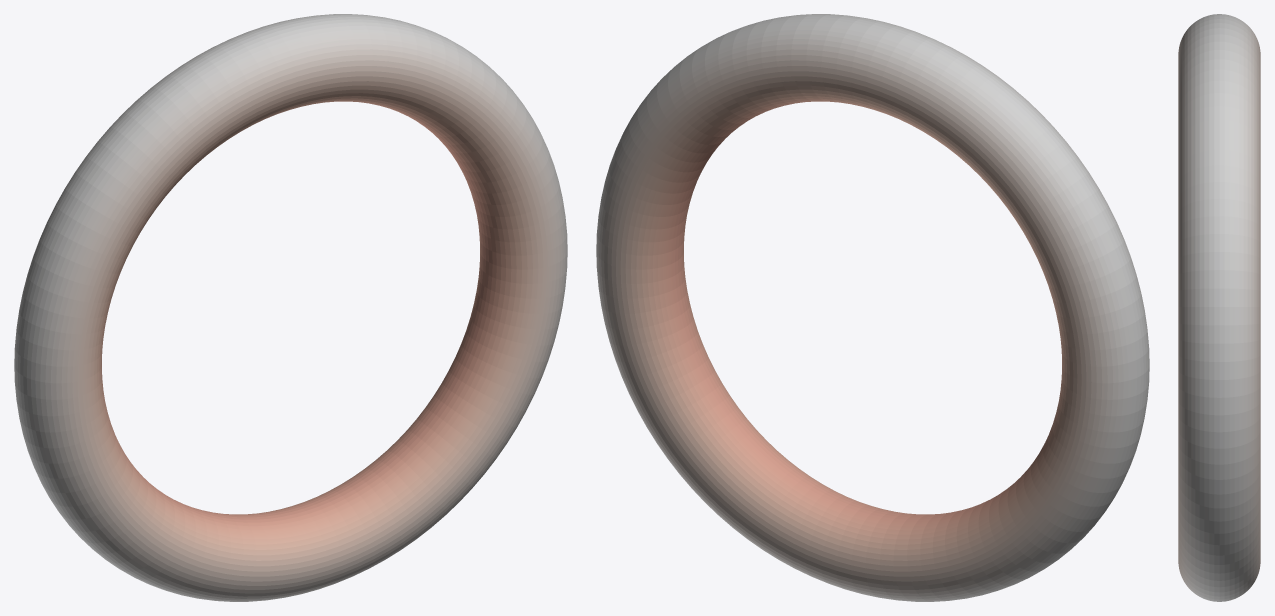
3 views of the same model, side by side, from view 1: azimuth 30°, elevation 25°; view 2: azimuth 150°, elevation 25°; view 3: azimuth 270°, elevation 25° (orthographic). The views are drawn at different scales.
Parts seen in each view (by area): view 1: world; view 2: world; view 3: world.
Boxes of the visible parts, x1,y1,x2,y2 form: world: [14, 14, 567, 601]; world: [596, 14, 1149, 601]; world: [1178, 14, 1260, 601].
Bounding box in the file's own units: 33.33 × 33.33 × 4.66.
